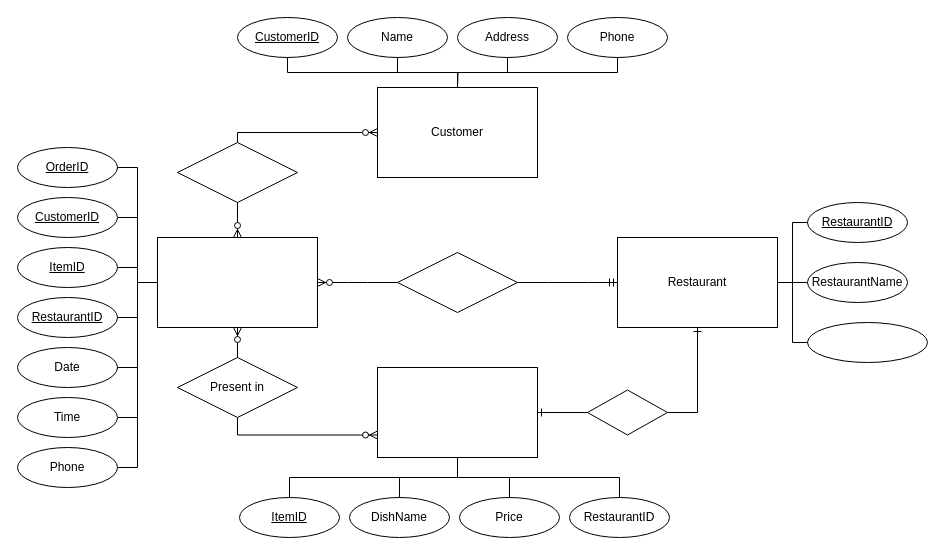
Image size: 945x555. Some labels were removed from this diagram. The shapes that lost their labels are listed below. From the top down, each one's centre as x and y in pixels, then its label:
At (237,172): "Creates".
At (237,282): "Order".
At (457,282): "Provided by".
At (867,342): "RestaurantAddress".
At (457,412): "FoodItem".
At (627,412): "Made by".
